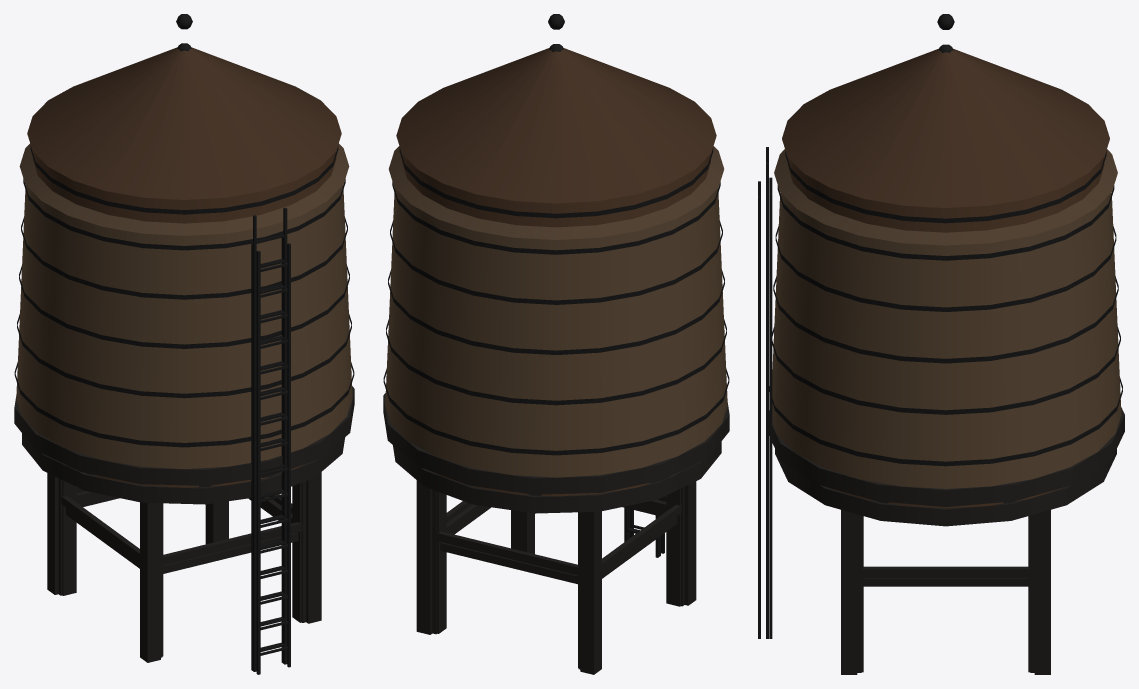
File: water_tower.glb
3 renders of one model, left to right at view 1: azimuth 30°, elevation 25°; view 2: azimuth 150°, elevation 25°; view 3: azimuth 270°, elevation 25°, orthographic. The views are drawn at different scales.
Parts seen in each view (by area): view 1: wt2_body, wt0_body, wt1_body; view 2: wt2_body, wt0_body, wt1_body; view 3: wt2_body, wt0_body, wt1_body.
Part boxes in pixels (x1,y1,x2,y2): wt2_body: [14, 143, 354, 674]; wt0_body: [22, 14, 344, 671]; wt1_body: [62, 43, 301, 670]; wt2_body: [383, 146, 729, 674]; wt0_body: [393, 14, 721, 669]; wt1_body: [437, 44, 680, 667]; wt2_body: [758, 149, 1124, 674]; wt0_body: [766, 14, 1116, 672]; wt1_body: [769, 44, 1030, 672].
Bounding box in the file's own units: 4.86 × 9.24 × 4.98.
